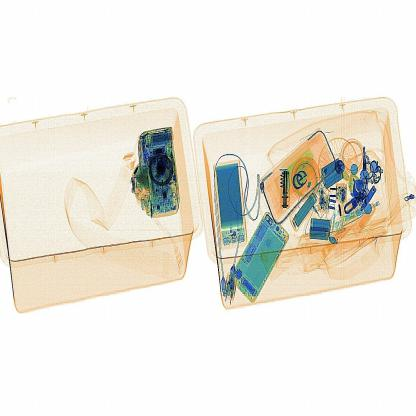scissors: (270, 157, 297, 211)
